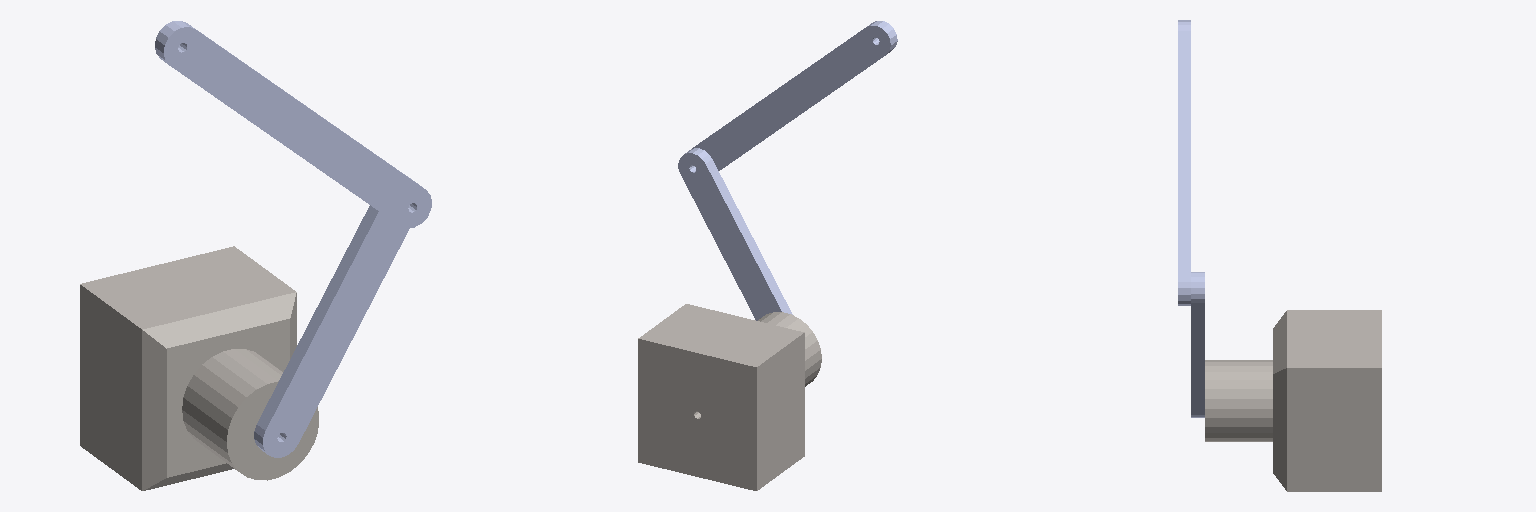
URDF robot description (Assem00):
<robot
  name="Assem00">
  <link
    name="base_link">
    <inertial>
      <origin
        xyz="1.9009E-18 -3.3542E-18 0.049155"
        rpy="0 0 0" />
      <mass
        value="7.0765" />
      <inertia
        ixx="0"
        ixy="0"
        ixz="0"
        iyy="0"
        iyz="0"
        izz="0" />
    </inertial>
    <visual>
      <origin
        xyz="0 0 0"
        rpy="0 0 0" />
      <geometry>
        <mesh
          filename="package://Assem00/meshes/base_link.STL" />
      </geometry>
      <material
        name="">
        <color
          rgba="0.77647 0.75686 0.73725 1" />
      </material>
    </visual>
    <collision>
      <origin
        xyz="0 0 0"
        rpy="0 0 0" />
      <geometry>
        <mesh
          filename="package://Assem00/meshes/base_link.STL" />
      </geometry>
    </collision>
  </link>
  <link
    name="Link00">
    <inertial>
      <origin
        xyz="6.9389E-18 0.075 -0.005"
        rpy="0 0 0" />
      <mass
        value="0.041843" />
      <inertia
        ixx="0"
        ixy="0"
        ixz="0"
        iyy="0"
        iyz="0"
        izz="0" />
    </inertial>
    <visual>
      <origin
        xyz="0 0 0"
        rpy="0 0 0" />
      <geometry>
        <mesh
          filename="package://Assem00/meshes/Link00.STL" />
      </geometry>
      <material
        name="">
        <color
          rgba="0.79216 0.81961 0.93333 1" />
      </material>
    </visual>
    <collision>
      <origin
        xyz="0 0 0"
        rpy="0 0 0" />
      <geometry>
        <mesh
          filename="package://Assem00/meshes/Link00.STL" />
      </geometry>
    </collision>
  </link>
  <joint
    name="Joint00"
    type="revolute">
    <origin
      xyz="0 -0.13 0"
      rpy="1.5708 -0.5539 3.1416" />
    <parent
      link="base_link" />
    <child
      link="Link00" />
    <axis
      xyz="0 0 -1" />
    <limit
      effort="0"
      velocity="0" />
  </joint>
  <link
    name="Link01">
    <inertial>
      <origin
        xyz="2.7756E-17 0.1 -0.005"
        rpy="0 0 0" />
      <mass
        value="0.054343" />
      <inertia
        ixx="0"
        ixy="0"
        ixz="0"
        iyy="0"
        iyz="0"
        izz="0" />
    </inertial>
    <visual>
      <origin
        xyz="0 0 0"
        rpy="0 0 0" />
      <geometry>
        <mesh
          filename="package://Assem00/meshes/Link01.STL" />
      </geometry>
      <material
        name="">
        <color
          rgba="0.79216 0.81961 0.93333 1" />
      </material>
    </visual>
    <collision>
      <origin
        xyz="0 0 0"
        rpy="0 0 0" />
      <geometry>
        <mesh
          filename="package://Assem00/meshes/Link01.STL" />
      </geometry>
    </collision>
  </link>
  <joint
    name="Joint01"
    type="revolute">
    <origin
      xyz="0 0.15 -0.01"
      rpy="0 0 -1.3928" />
    <parent
      link="Link00" />
    <child
      link="Link01" />
    <axis
      xyz="0 0 -1" />
    <limit
      effort="0"
      velocity="0" />
  </joint>
</robot>

--- Render facts (derived) ---
3 views of the same robot in one strip: view 1: azimuth 30°, elevation 25°; view 2: azimuth 150°, elevation 25°; view 3: azimuth 270°, elevation 25° (orthographic).
Robot: Assem00 — 3 links, 2 joints (2 revolute); root link base_link; default pose: all joints at 0.
Visible links, largest first — view 1: base_link, Link01, Link00; view 2: base_link, Link01, Link00; view 3: base_link, Link01, Link00.
Link boxes in pixels (x1,y1,x2,y2): base_link: (80,246,318,490); Link01: (155,21,431,227); Link00: (254,178,410,457); base_link: (638,304,821,490); Link01: (692,21,897,170); Link00: (678,148,792,320); base_link: (1205,310,1381,491); Link01: (1178,20,1190,305); Link00: (1191,272,1204,417).
Bounding box of the posed robot: 0.1737 × 0.15 × 0.3237 m (x, y, z).
Meshes: 3 distinct files referenced, 3 mesh visuals loaded (3 binary STL).